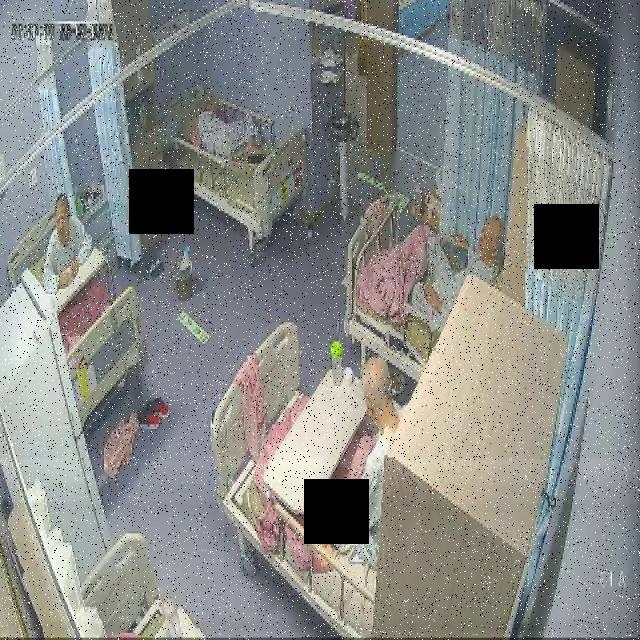bed: (212, 327, 408, 640), (8, 210, 147, 425), (346, 200, 478, 384), (162, 82, 304, 240)
lie: (188, 95, 266, 161)
patient: (310, 350, 404, 564), (422, 216, 504, 334), (42, 186, 92, 294), (188, 96, 266, 162)
sit: (310, 350, 406, 564), (378, 217, 504, 333), (42, 188, 91, 294)
